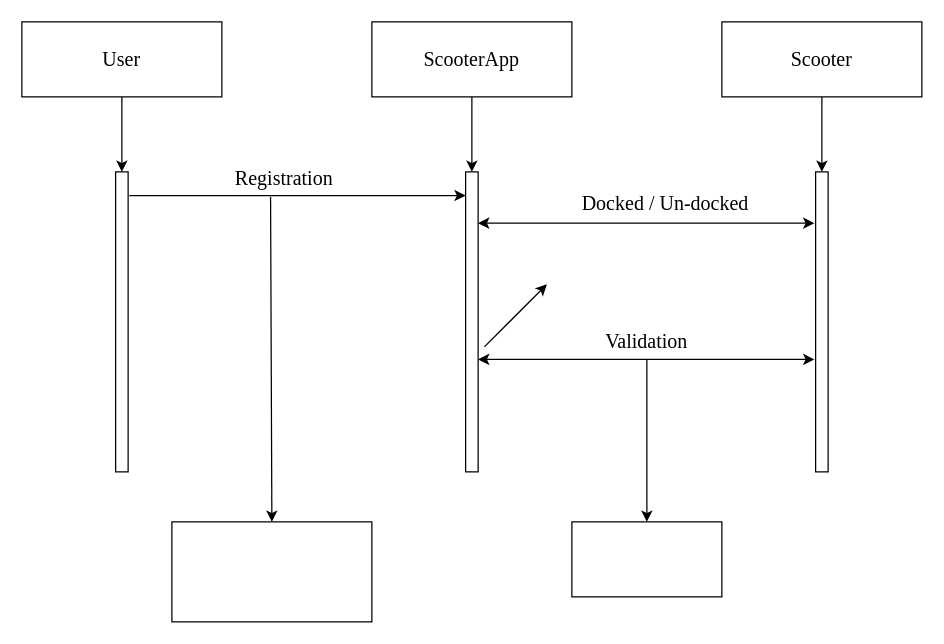
This 944x644 diagram has some shape labels left out. Here are the shapes that lost their labels. From the top down, the centre of each, then its label:
point 271,571: Name Phone # Age
point 646,559: Payment
